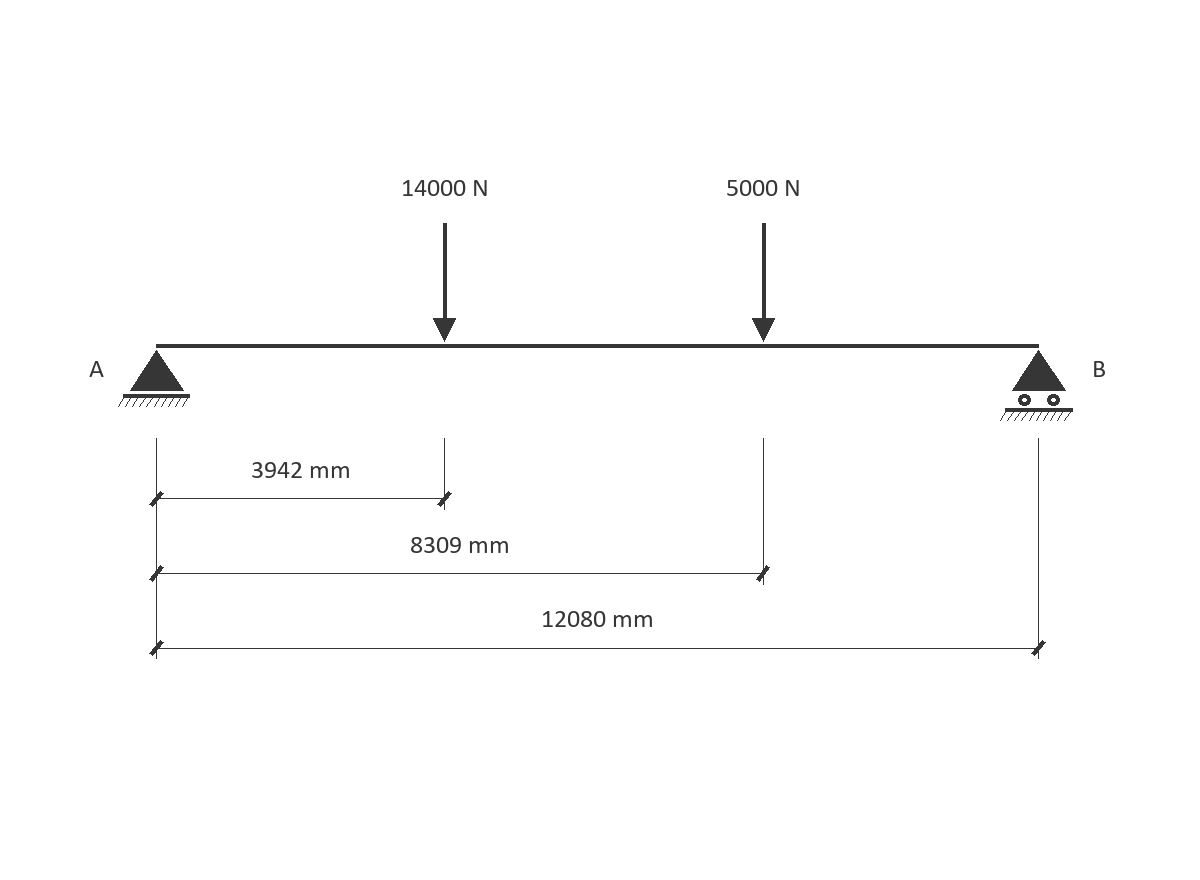pin_support: (118, 350, 190, 407)
point_load: (433, 223, 456, 342), (752, 223, 775, 342)
roller_support: (1000, 350, 1073, 421)
